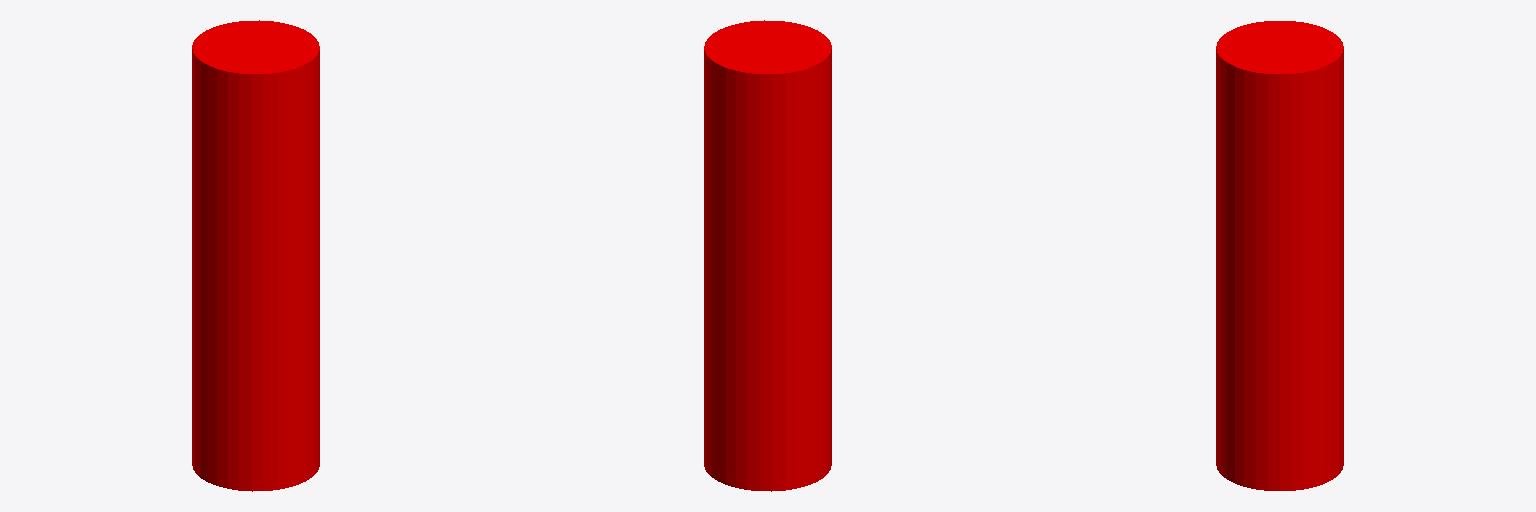
URDF robot description (dynamic_obstacle):
<?xml version="1.0" ?>
<robot name="dynamic_obstacle">
  <link name="baseLink">
    <visual>
      <origin rpy="0 0 0" xyz="0 0 0.9"/>
      <geometry>
        <cylinder radius="0.25" length="1.8"/>
      </geometry>
      <material name="red">
        <color rgba="1.0 0.0 0.0 1.0"/>
      </material>
    </visual>

    <collision>
      <origin rpy="0 0 0" xyz="0 0 0.9"/>
      <geometry>
        <cylinder radius="0.25" length="1.8"/>
      </geometry>
    </collision>

    <inertial>
      <origin rpy="0 0 0" xyz="0 0 0.9"/>
      <mass value="0.0"/>
      <inertia ixx="0" ixy="0" ixz="0" iyy="0" iyz="0" izz="0"/>
    </inertial>
  </link>
</robot>

--- What the picture shows (computed from the rendered views, not written in the file) ---
3 views of the same robot in one strip: view 1: azimuth 30°, elevation 25°; view 2: azimuth 150°, elevation 25°; view 3: azimuth 270°, elevation 25° (orthographic).
Robot: dynamic_obstacle — 1 links, 0 joints (none); root link baseLink; default pose: every joint at zero.
Visible links, largest first — view 1: baseLink; view 2: baseLink; view 3: baseLink.
Link boxes in pixels (x1,y1,x2,y2): baseLink: (192, 20, 319, 491); baseLink: (704, 20, 831, 491); baseLink: (1216, 21, 1343, 490).
Size in the robot's own frame: 0.5 by 0.5 by 1.8 metres.
Geometry: primitives only (box / cylinder / sphere), no mesh files.
